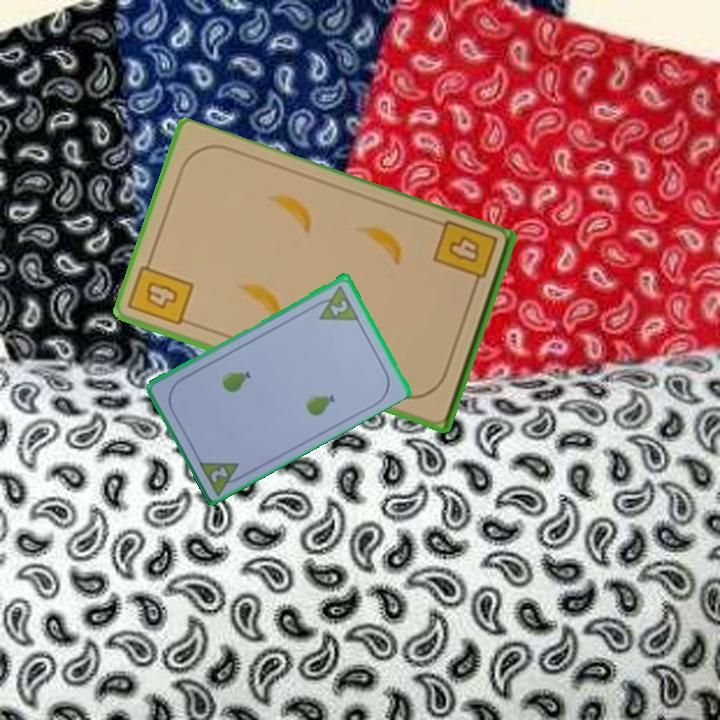2p: (309, 281, 362, 323), (195, 456, 249, 497)
4b: (430, 217, 501, 295), (126, 253, 197, 329)
